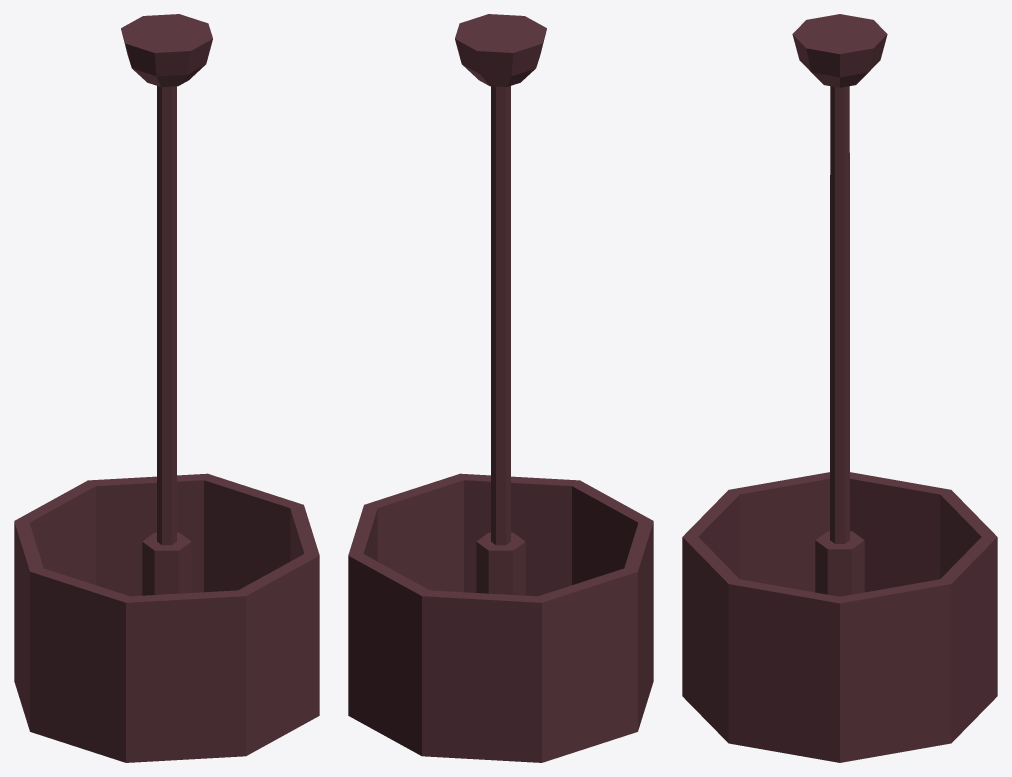
Rendered from light-shade-ceiling.fbx.
3 views of the same model, side by side, from view 1: azimuth 30°, elevation 25°; view 2: azimuth 150°, elevation 25°; view 3: azimuth 270°, elevation 25° (orthographic).
Parts seen in each view (by area): view 1: light-shade-ceiling; view 2: light-shade-ceiling; view 3: light-shade-ceiling.
Boxes of the visible parts, x1,y1,x2,y2 form: light-shade-ceiling: (14, 14, 319, 762); light-shade-ceiling: (348, 14, 653, 762); light-shade-ceiling: (682, 14, 997, 762).
Bounding box in the file's own units: 0.43 × 0.9974 × 0.43.
